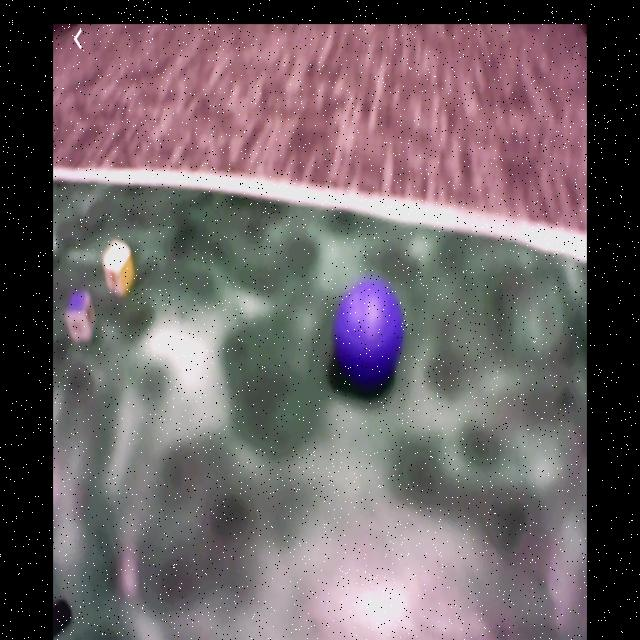ball: (334, 280, 401, 392)
